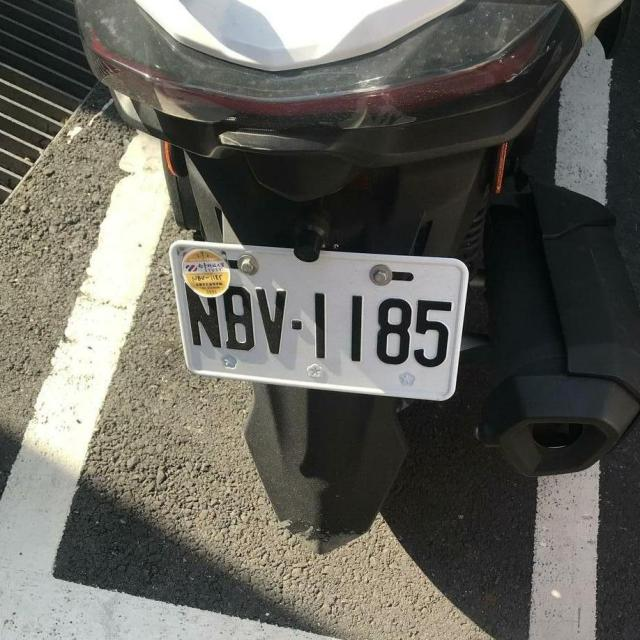W: (162, 238, 472, 402)
